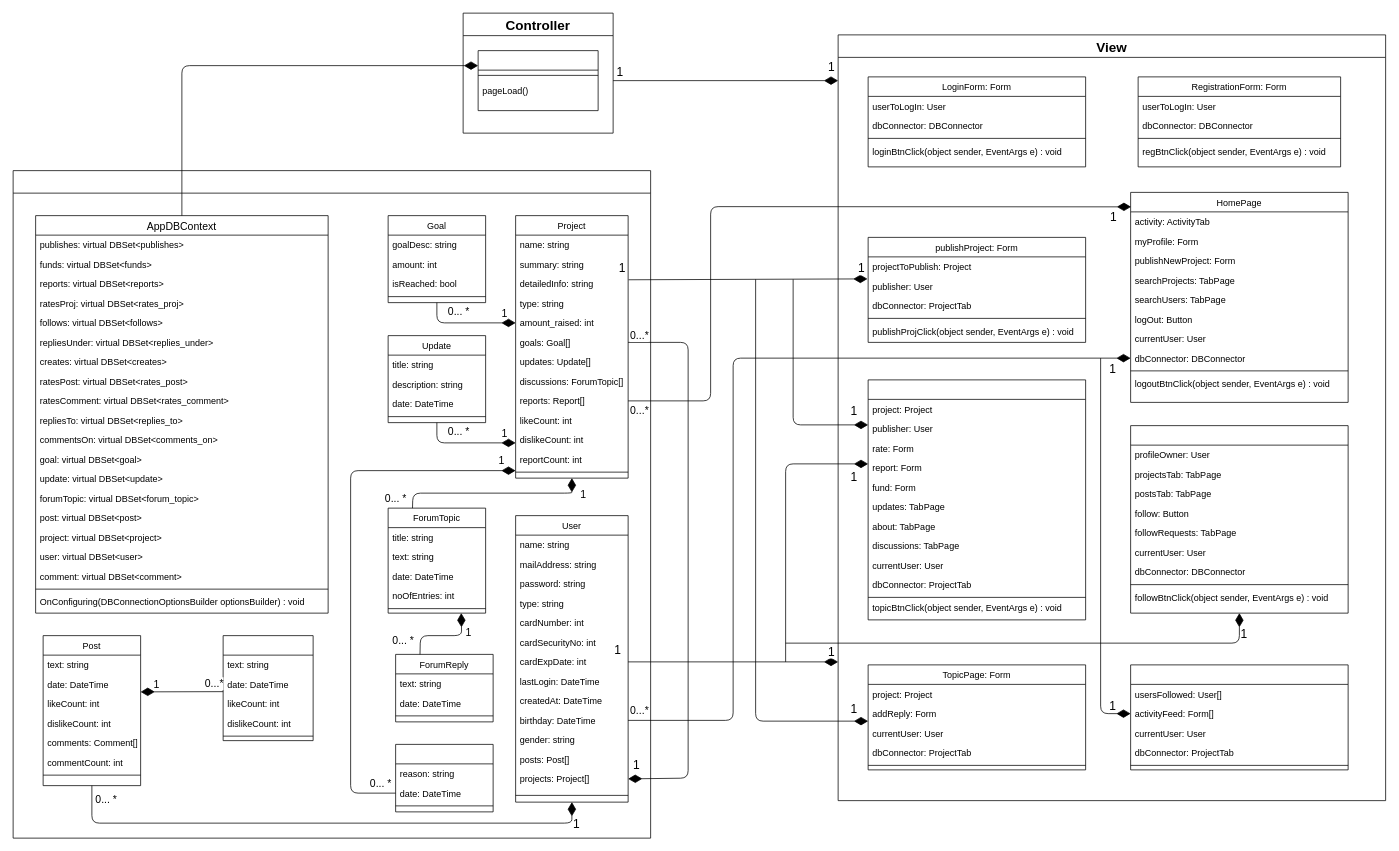
The diagram is 1399 pixels wide and 851 high, and some of its shapes have lost their labels. Each missing label, with the box of its shape:
ActivityTab: TabPage: (1130, 664, 1348, 770)
Comment: (222, 635, 313, 741)
DBConnector: (477, 50, 598, 111)
Model: (12, 170, 651, 838)
ProfilePage: (1130, 425, 1348, 613)
projectPage: (867, 379, 1086, 620)
Report: (395, 744, 493, 812)
